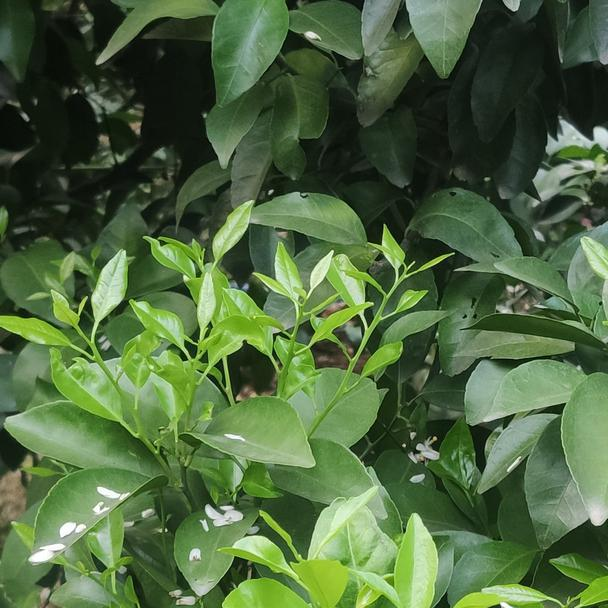shoot: (9, 261, 165, 444), (332, 248, 449, 391), (149, 216, 261, 351), (260, 258, 360, 393), (155, 288, 237, 435)
